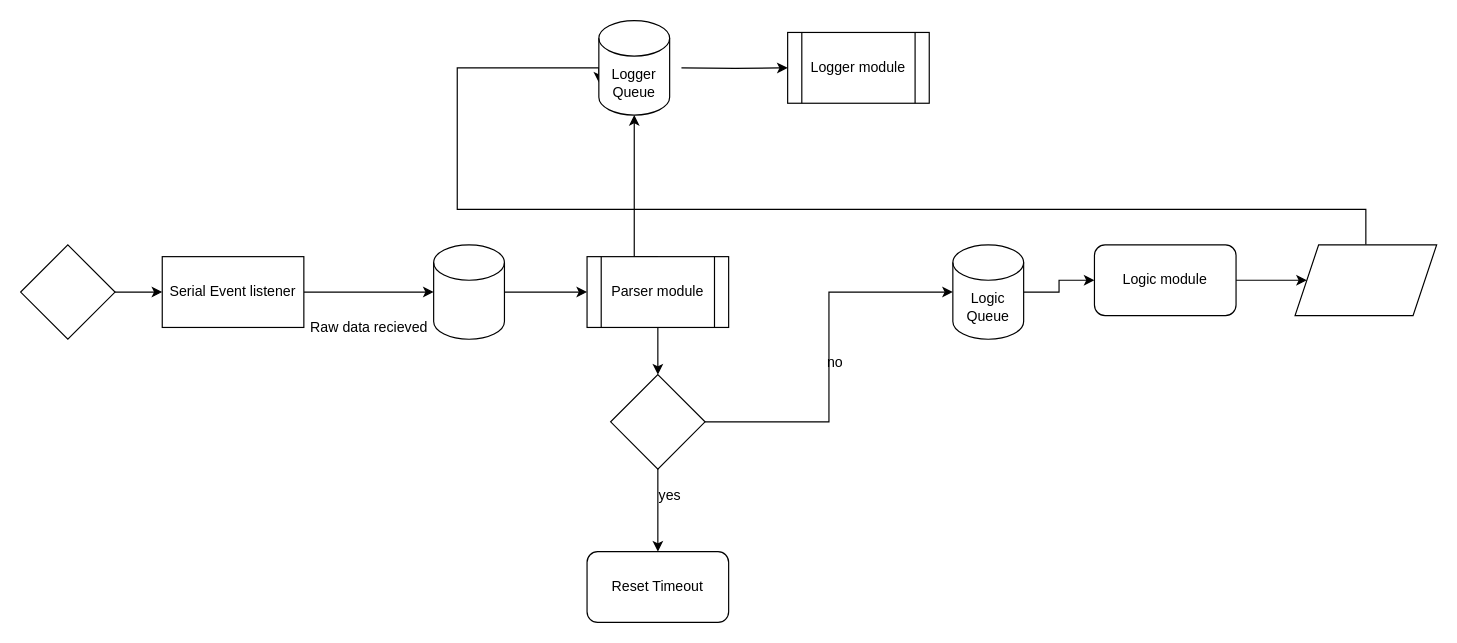
Image size: 1457x643. Some labels were removed from this diagram. Here are the shapes that lost their labels. From the top down, the centre of each, then its label:
At point 67,291: "Bluetooth input".
At point 468,291: "Parser queue".
At point 1365,280: "Raise event".
At point 657,421: "If HB".
